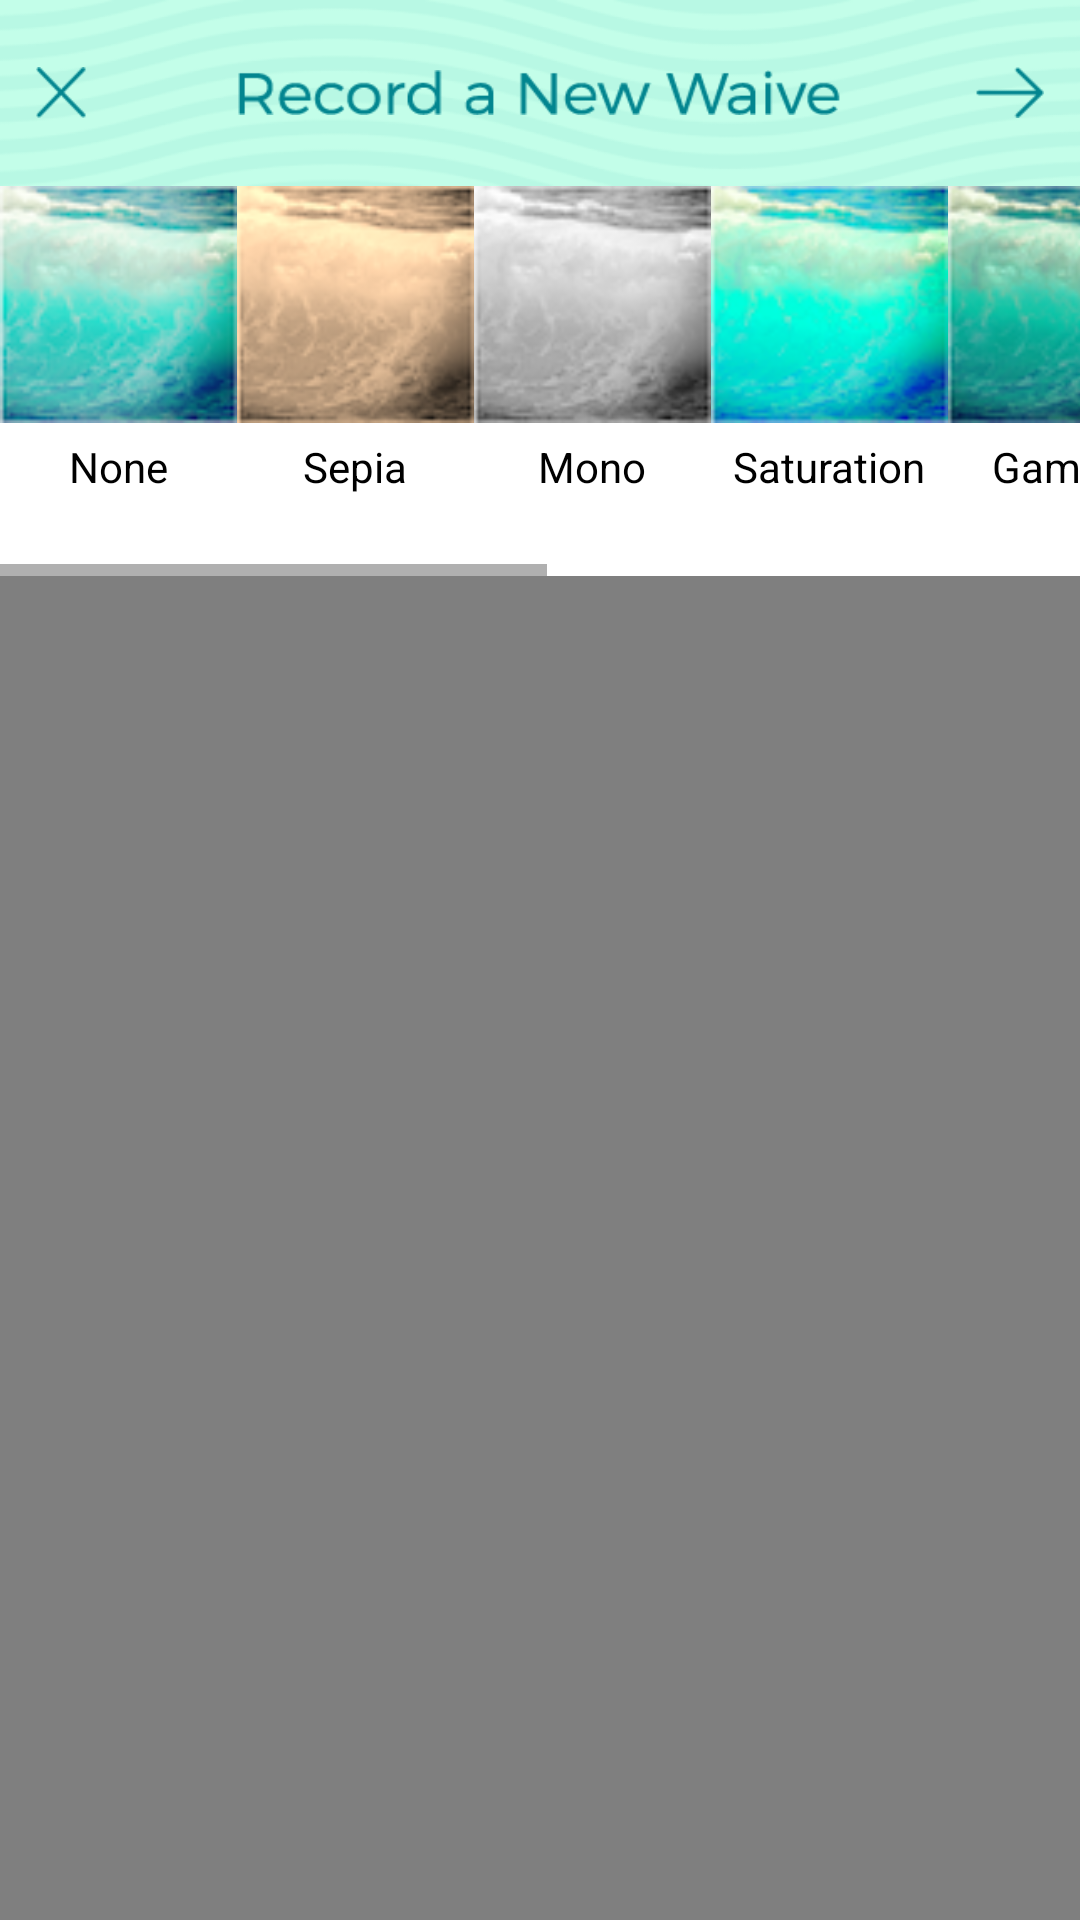

Screen size 1080px×1920px. Icon name, then its center in pixels as (x,y):
close: (61,92)
filter: (118,304)
rgt arrow: (1010,92)
